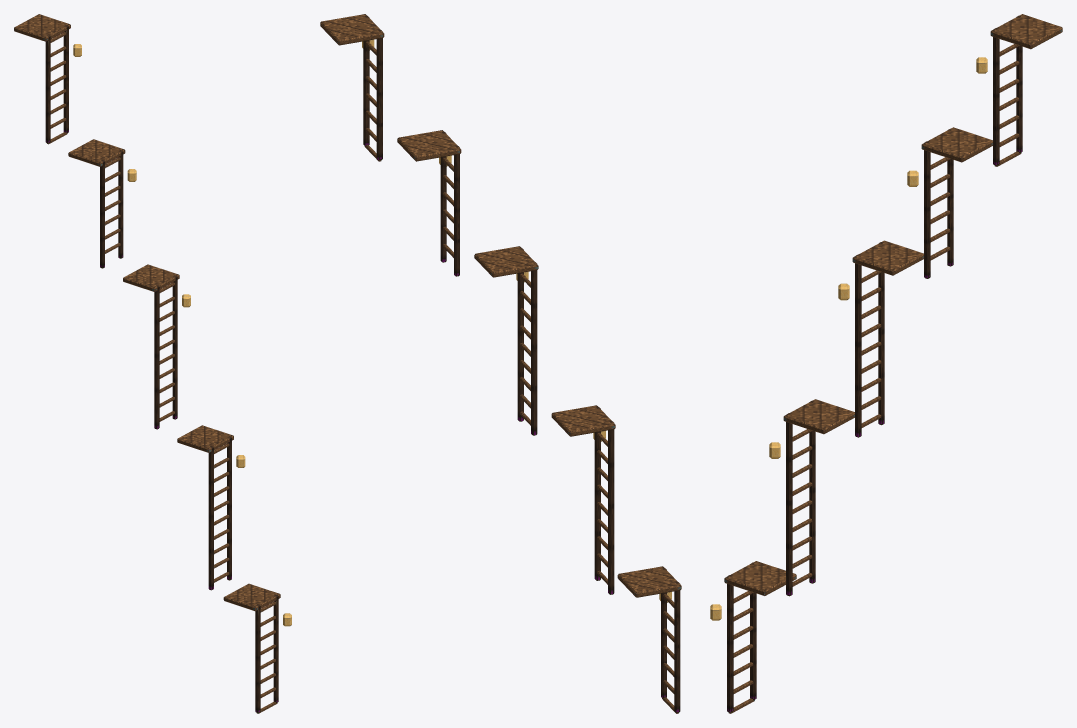
The model's file is env_ladder.fbx.
The picture shows the model from 3 angles, left to right: view 1: azimuth 90°, elevation 25°; view 2: azimuth 150°, elevation 25°; view 3: azimuth 270°, elevation 25°; orthographic projection. The views are drawn at different scales.
Visible parts, largest first — view 1: env_ladder; view 2: env_ladder; view 3: env_ladder.
Boxes of the visible parts, bbox=[...] form: env_ladder: bbox=[14, 14, 291, 713]; env_ladder: bbox=[320, 14, 681, 713]; env_ladder: bbox=[710, 14, 1062, 713].
Bounding box in the file's own units: 22.39 × 68.15 × 28.18.
Materials: 2 (2 with a texture image).
